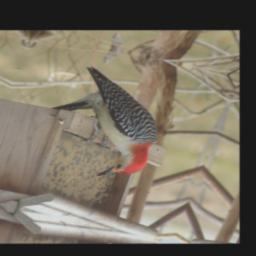Woodpecker: (37, 67, 182, 187)
